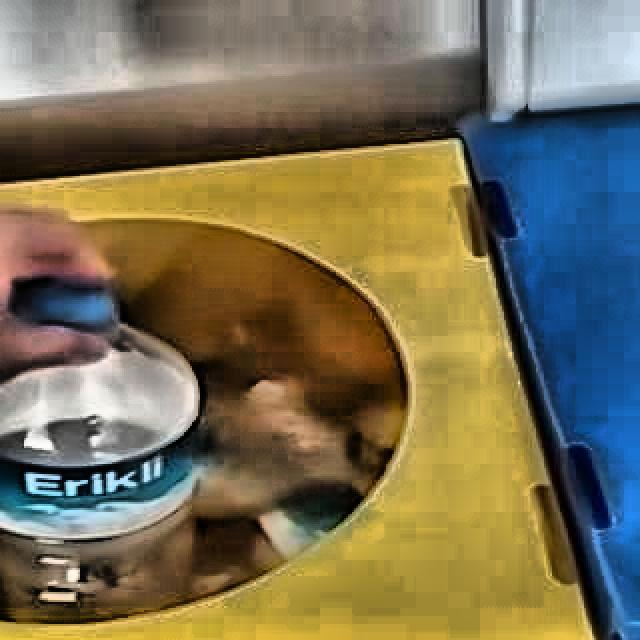plastic: (0, 279, 200, 624)
